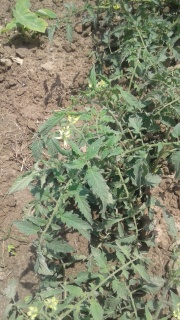tomato flower: (57, 111, 89, 130), (53, 128, 80, 146), (44, 290, 62, 312), (21, 303, 36, 320)
tomato plant: (28, 162, 156, 320), (85, 1, 180, 188)
